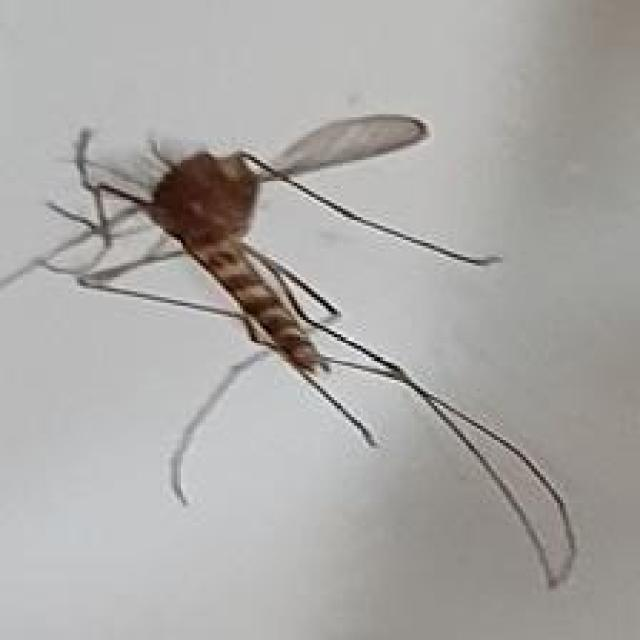Culex: (0, 110, 577, 590)
